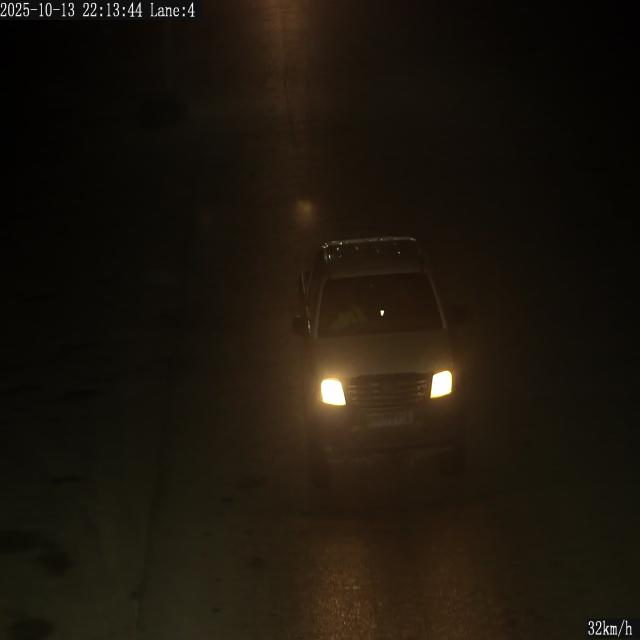BUS: (367, 411, 413, 427)
